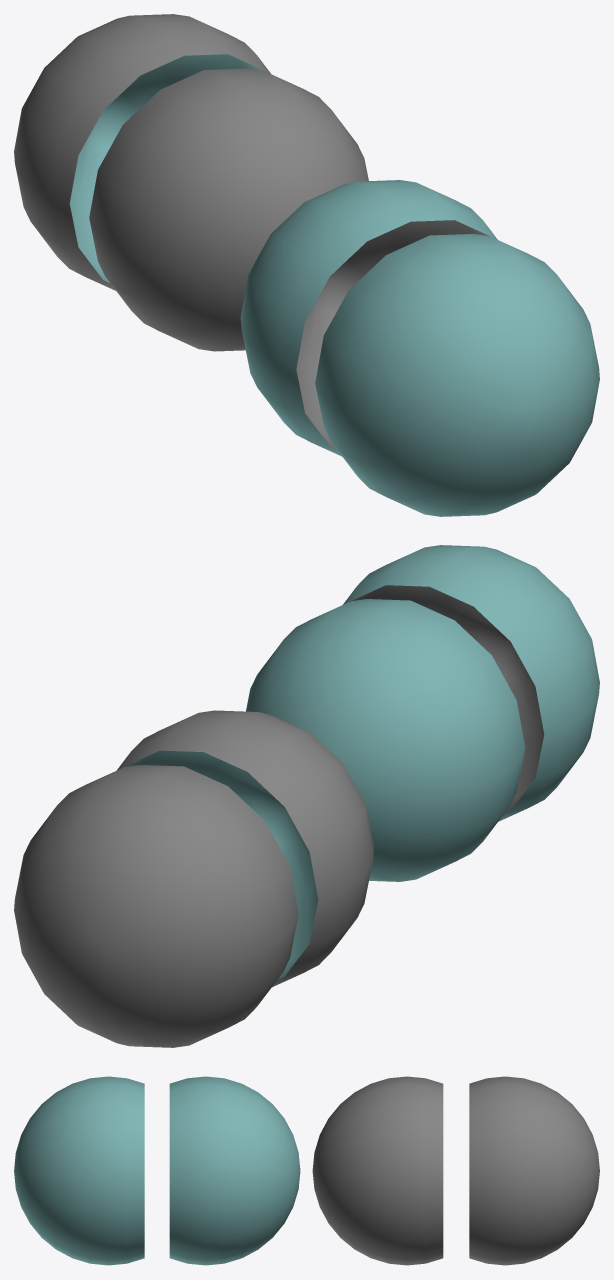
The model's file is convex concave sph.fbx.
3 renders of one model, top to bottom at view 1: azimuth 30°, elevation 25°; view 2: azimuth 150°, elevation 25°; view 3: azimuth 270°, elevation 25°, orthographic. The views are drawn at different scales.
Visible parts, largest first — view 1: convex1, concave_1, concave_2, conve2; view 2: concave_2, conve2, concave_1, convex1; view 3: conve2, concave_1, concave_2, convex1.
Part boxes in pixels (box(x1,y1,x2,y2)): convex1: box(315, 234, 599, 516); concave_1: box(89, 68, 368, 351); concave_2: box(14, 14, 270, 290); conve2: box(240, 180, 497, 456); concave_2: box(14, 765, 298, 1047); conve2: box(246, 599, 525, 881); concave_1: box(117, 710, 373, 987); convex1: box(343, 545, 599, 821); conve2: box(169, 1076, 300, 1265); concave_1: box(312, 1076, 443, 1265); concave_2: box(469, 1076, 599, 1265); convex1: box(14, 1076, 144, 1265).
Bounding box in the file's own units: 178 × 178 × 552.
